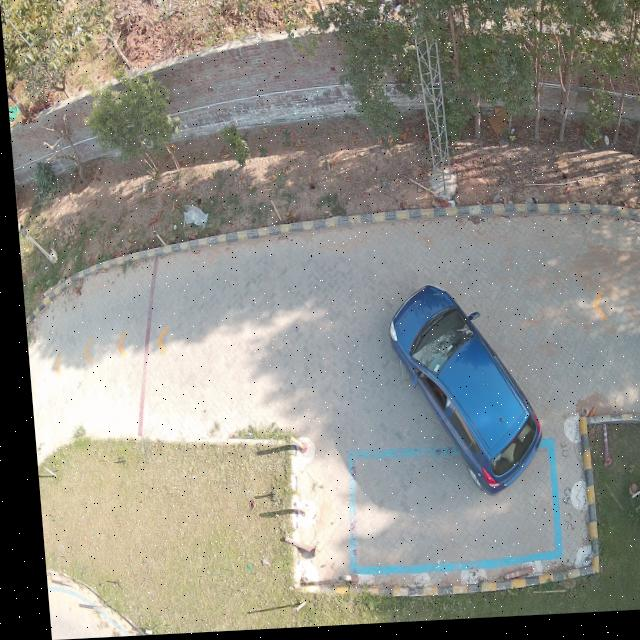car: (383, 290, 534, 498)
